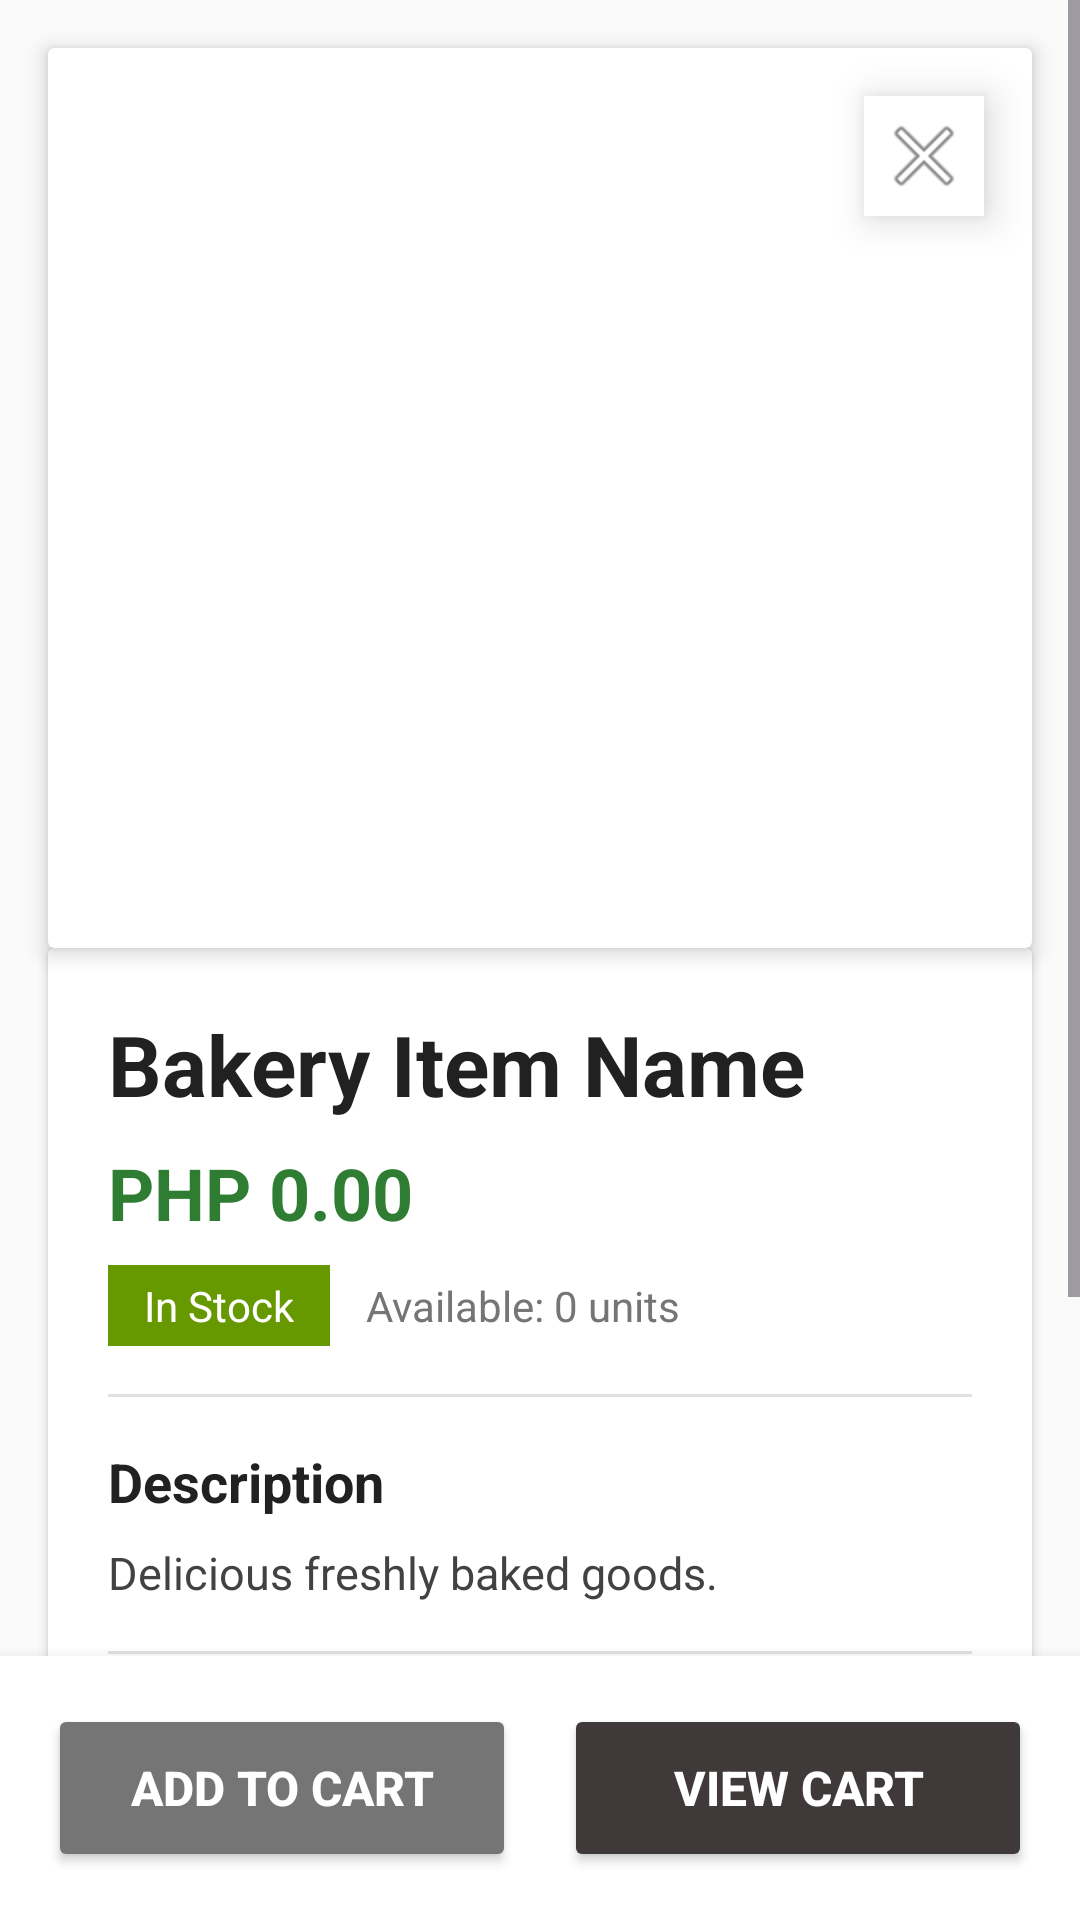

Screen size 1080w x 1920h. Icon name, then its box in pixels as (x1, y1, x2, y2):
close clear cancel: (864, 96, 984, 216)
